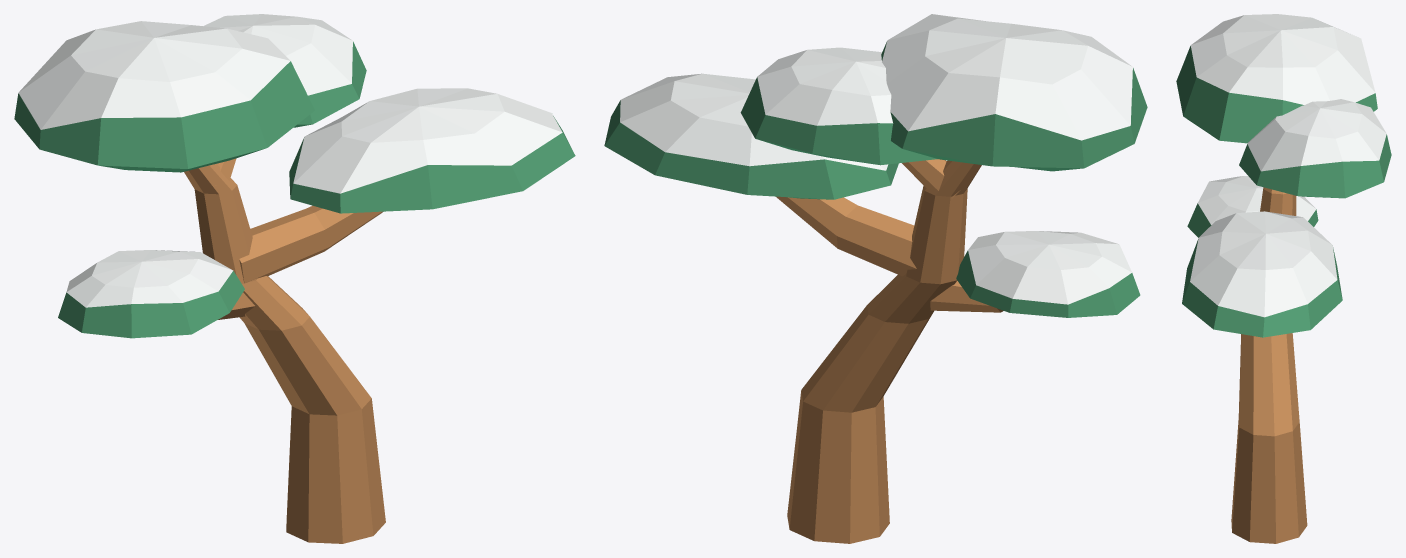
The model's file is WindPine.glb.
The picture shows the model from 3 angles, left to right: view 1: azimuth 30°, elevation 25°; view 2: azimuth 150°, elevation 25°; view 3: azimuth 270°, elevation 25°; orthographic projection. The views are drawn at different scales.
Parts seen in each view (by area): view 1: WindPine; view 2: WindPine; view 3: WindPine.
Part boxes in pixels (x1,y1,x2,y2): WindPine: (14, 14, 575, 543); WindPine: (604, 14, 1147, 543); WindPine: (1176, 14, 1391, 543).
Size of the model in its own units: 4.65 by 4.48 by 2.05.
1 material, 1 textured.
